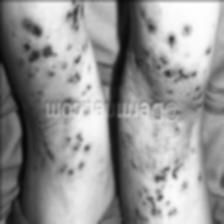Toxin: (127, 3, 203, 102), (16, 0, 93, 96), (120, 132, 198, 224), (29, 120, 89, 186)
